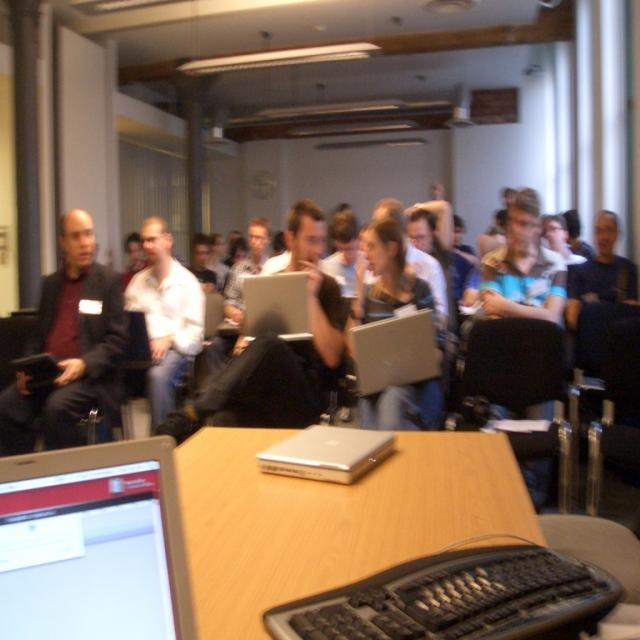chair: (453, 318, 576, 512), (572, 301, 640, 517)
desk: (87, 395, 614, 640)
keyboard: (266, 542, 624, 639)
laptop: (2, 436, 194, 640), (255, 423, 398, 485), (346, 312, 440, 396), (241, 272, 312, 338)
person: (1, 207, 131, 455), (344, 198, 451, 427), (124, 216, 206, 428), (478, 187, 568, 329), (566, 209, 640, 324)
